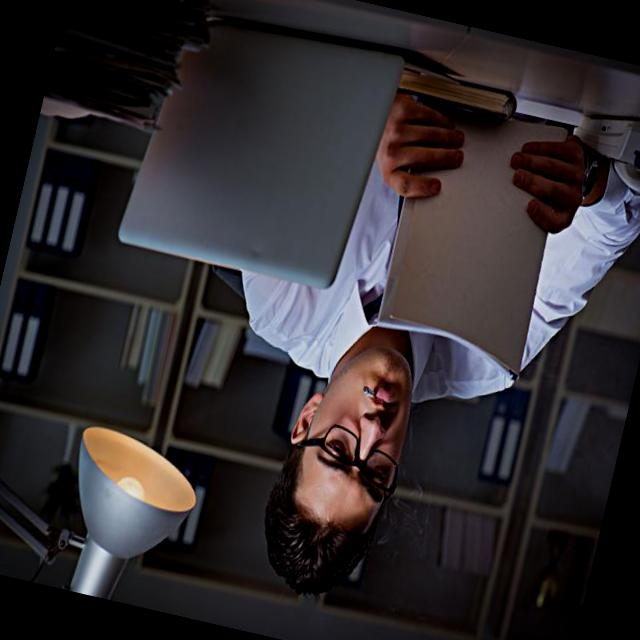smoke: (352, 376, 386, 410)
